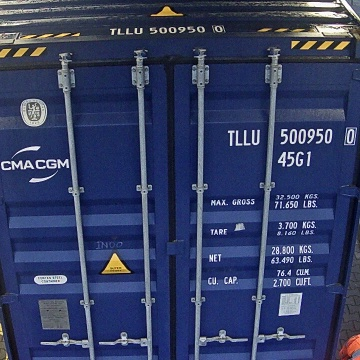serial_id: (227, 128, 355, 146)
